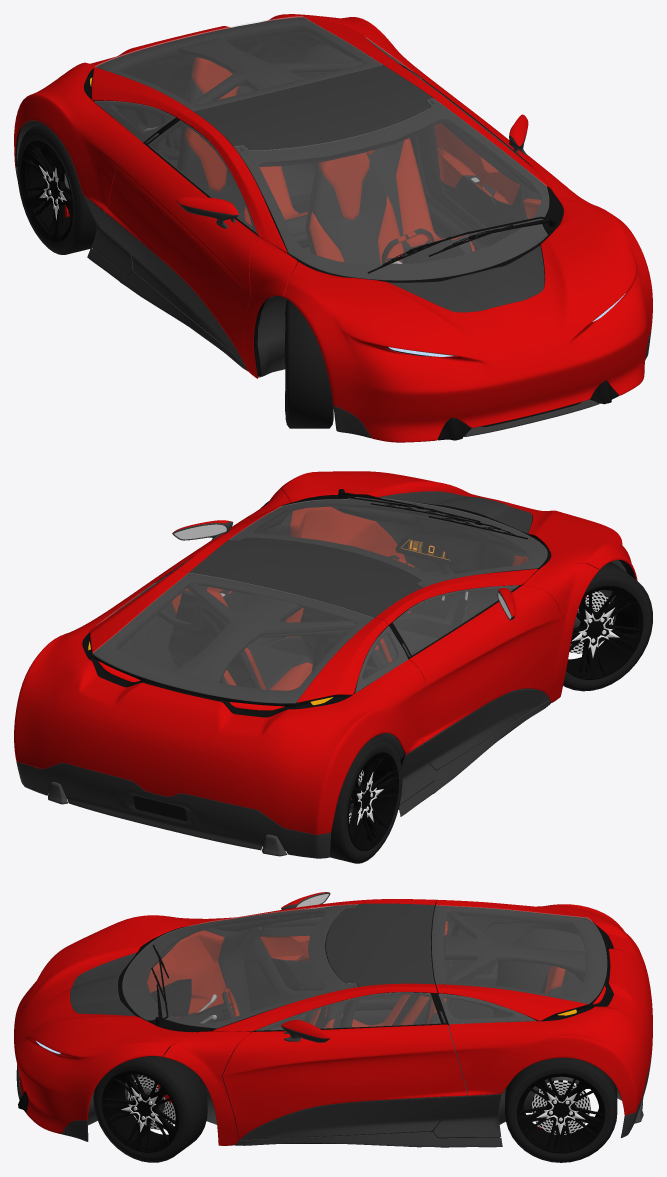
File: concept.glb
3 views of the same model, one above another, from view 1: azimuth 30°, elevation 25°; view 2: azimuth 150°, elevation 25°; view 3: azimuth 270°, elevation 25° (orthographic). The views are drawn at different scales.
Visible parts, largest first — view 1: g_BodyHood, BodyWindshield, BodyWindshieldGasket, BodyRoofPanel, BodyWindowsRearSides, g_BodyDoorRColor1, g_BodyRearPanelsColor1, InteriorDashSides, InteriorSeatsColor2, BodyPillars, InteriorDoorL01, InteriorRearHatch (+14 smaller); view 2: g_BodyRearPanelsColor1, BodyWindowsRearSides, BodyRoofPanel, BodyWindshieldGasket, BodyWindshield, g_BodyDoorRColor1, InteriorRearHatch, g_BodyHood, BodyPillars, InteriorDashMid, WheelFrontRRim, InteriorDashSides (+14 smaller); view 3: g_BodyRearPanelsColor1, BodyWindshield, g_BodyDoorLColor1, g_BodyHood, BodyWindshieldGasket, BodyWindowsRearSides, BodyRoofPanel, BodyPillars, BodyDoorLColor2, InteriorRearHatch, InteriorDashSides, InteriorDoorR01 (+17 smaller).
Part boxes in pixels (bbox=[...]): g_BodyHood: bbox=[283, 198, 652, 442]; BodyWindshield: bbox=[234, 98, 549, 280]; BodyWindshieldGasket: bbox=[17, 37, 603, 435]; BodyRoofPanel: bbox=[15, 65, 651, 438]; BodyWindowsRearSides: bbox=[94, 16, 411, 141]; g_BodyDoorRColor1: bbox=[104, 143, 257, 362]; g_BodyRearPanelsColor1: bbox=[14, 14, 428, 210]; InteriorDashSides: bbox=[185, 57, 540, 349]; InteriorSeatsColor2: bbox=[180, 78, 472, 264]; BodyPillars: bbox=[176, 61, 598, 378]; InteriorDoorL01: bbox=[409, 78, 526, 248]; InteriorRearHatch: bbox=[84, 17, 383, 117]; g_BodyRearPanelsColor1: bbox=[14, 569, 425, 834]; BodyWindowsRearSides: bbox=[92, 573, 407, 703]; BodyRoofPanel: bbox=[16, 537, 550, 858]; BodyWindshieldGasket: bbox=[157, 489, 627, 753]; BodyWindshield: bbox=[229, 497, 547, 587]; g_BodyDoorRColor1: bbox=[409, 585, 562, 742]; InteriorRearHatch: bbox=[82, 573, 386, 717]; g_BodyHood: bbox=[279, 471, 637, 580]; BodyPillars: bbox=[175, 489, 599, 702]; InteriorDashMid: bbox=[331, 503, 528, 622]; WheelFrontRRim: bbox=[566, 585, 643, 679]; InteriorDashSides: bbox=[184, 506, 528, 690]; g_BodyRearPanelsColor1: bbox=[436, 899, 652, 1115]; BodyWindshield: bbox=[122, 904, 357, 1028]; g_BodyDoorLColor1: bbox=[222, 1024, 467, 1139]; g_BodyHood: bbox=[14, 915, 196, 1133]; BodyWindshieldGasket: bbox=[19, 901, 586, 1143]; BodyWindowsRearSides: bbox=[432, 905, 606, 1023]; BodyRoofPanel: bbox=[16, 903, 652, 1147]; BodyPillars: bbox=[163, 899, 437, 1145]; BodyDoorLColor2: bbox=[240, 1011, 467, 1140]; InteriorRearHatch: bbox=[431, 905, 613, 1020]; InteriorDashSides: bbox=[147, 921, 565, 1028]; InteriorDoorR01: bbox=[244, 916, 451, 1013].
Bounding box in the file's own units: 2.54 × 1.15 × 4.36.
Materials: 23 (2 with a texture image).
